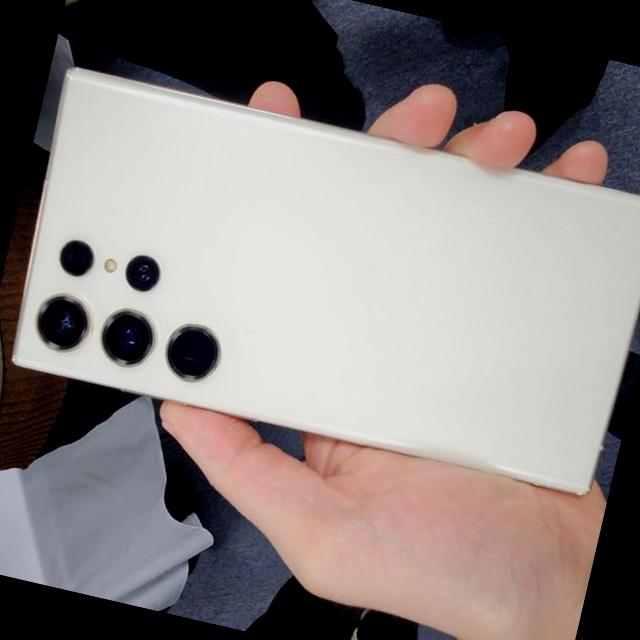lens_back: (156, 312, 236, 395), (23, 282, 99, 362), (92, 294, 162, 371), (122, 248, 168, 296)
phone: (0, 64, 640, 502)
